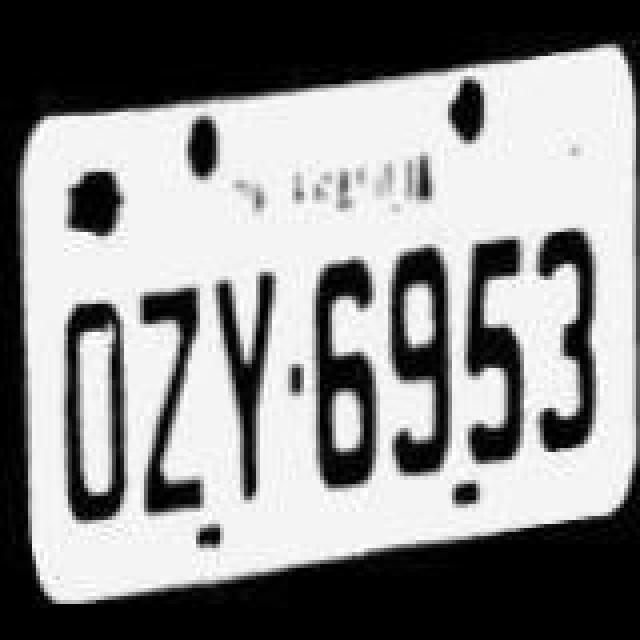3: (530, 222, 610, 458)
5: (454, 226, 534, 470)
6: (298, 244, 378, 488)
9: (382, 226, 454, 470)
O: (54, 288, 138, 536)
Y: (204, 262, 276, 514)
Z: (128, 278, 208, 542)
